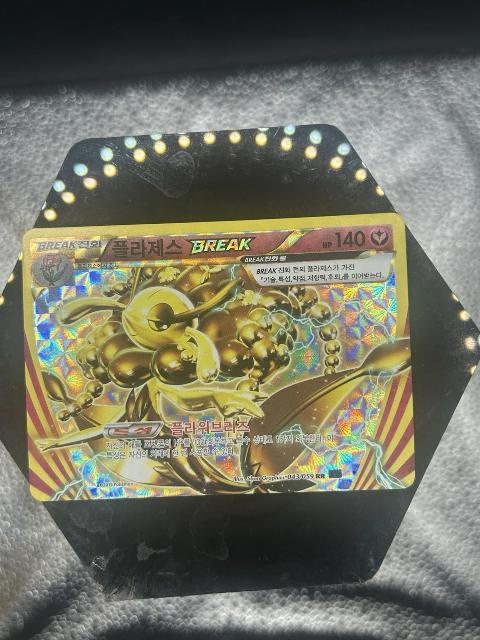Card: (18, 208, 420, 505)
Name: (108, 233, 259, 263)
